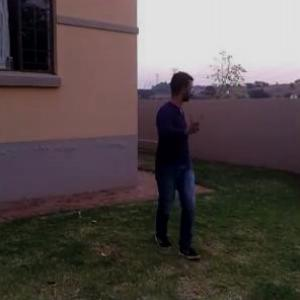takeoff-hand: (180, 106, 205, 141)
